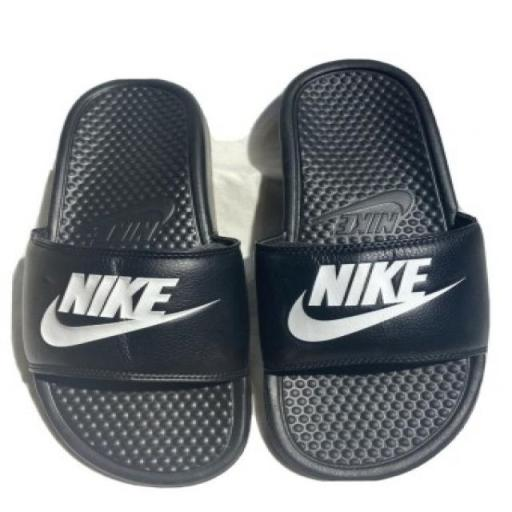Nike: (304, 254, 435, 308), (39, 309, 196, 347)
